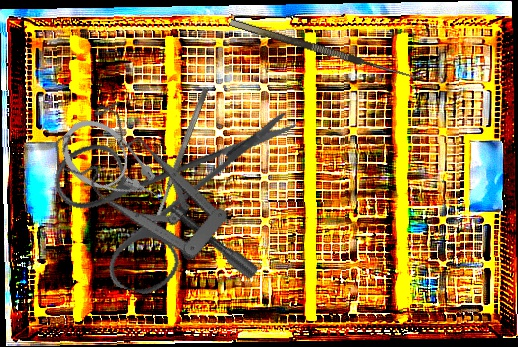Cannula: (48, 107, 174, 228)
Hook Surgical: (229, 8, 427, 85)
Iris Scissors: (30, 59, 301, 322)
Spatula Surgical: (147, 85, 211, 233)
Speculum: (41, 75, 263, 335)
